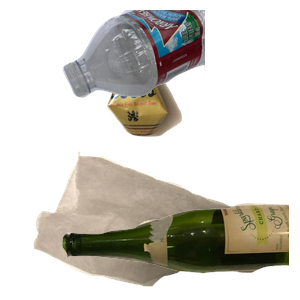glass: (60, 201, 300, 300)
metal: (105, 63, 300, 192)
plastic: (60, 10, 300, 100)
trash: (31, 149, 268, 300)
